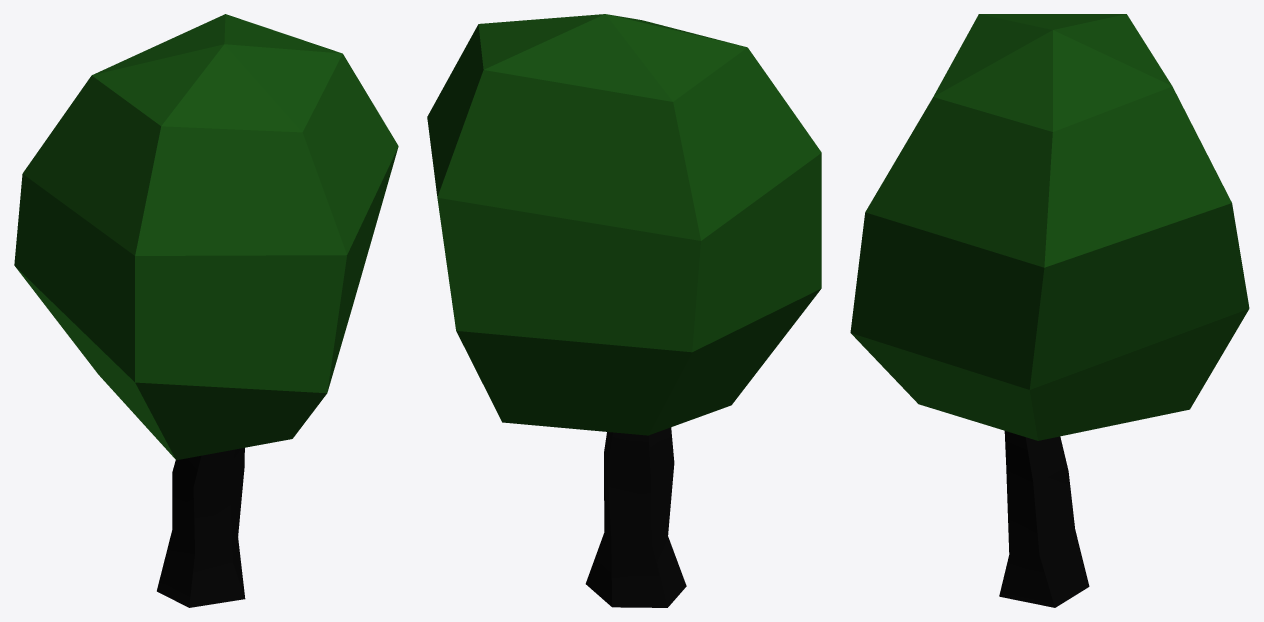
The model's file is tree02.fbx.
The picture shows the model from 3 angles, left to right: view 1: azimuth 30°, elevation 25°; view 2: azimuth 150°, elevation 25°; view 3: azimuth 270°, elevation 25°; orthographic projection. The views are drawn at different scales.
Visible parts, largest first — view 1: tree; view 2: tree; view 3: tree.
Boxes of the visible parts, left/top/right/bottom form: tree: left=14, top=14, right=398, bottom=607; tree: left=427, top=14, right=821, bottom=607; tree: left=850, top=14, right=1249, bottom=607.
Bounding box in the file's own units: 17.85 × 28.91 × 18.38.
